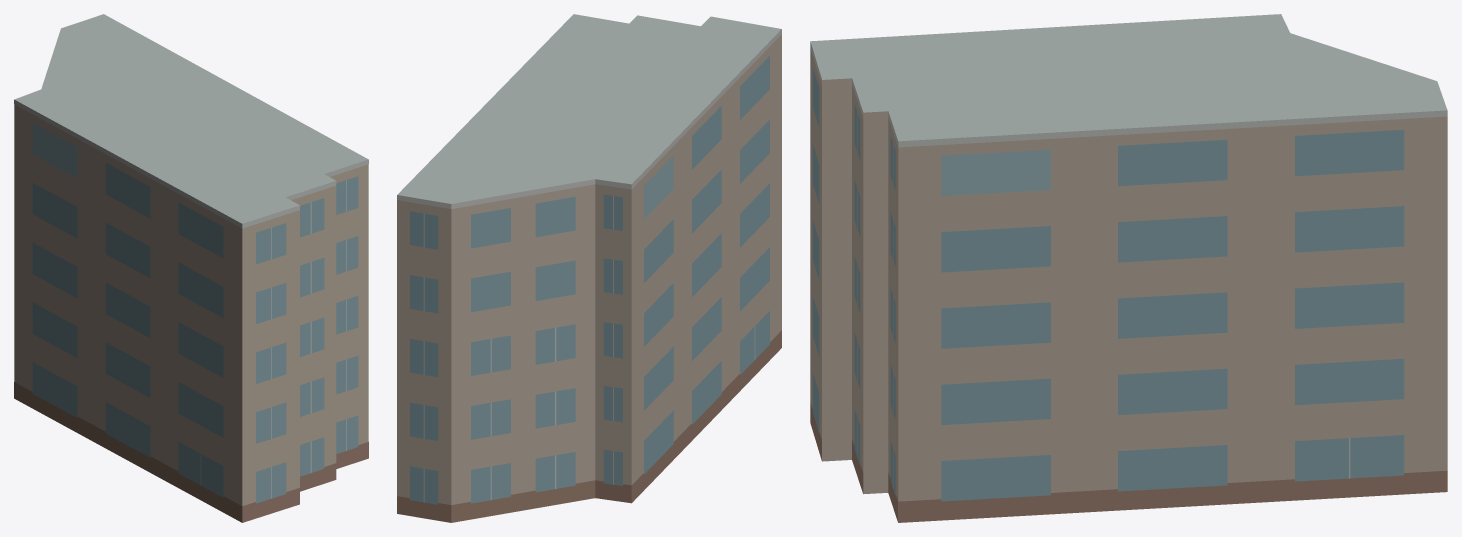
File: survey-upis-33000423.glb
3 renders of one model, left to right at view 1: azimuth 30°, elevation 25°; view 2: azimuth 150°, elevation 25°; view 3: azimuth 270°, elevation 25°, orthographic. The views are drawn at different scales.
Parts seen in each view (by area): view 1: survey-upis-33000423.tmp; view 2: survey-upis-33000423.tmp; view 3: survey-upis-33000423.tmp.
Part boxes in pixels (x1,y1,x2,y2): survey-upis-33000423.tmp: [14, 14, 368, 522]; survey-upis-33000423.tmp: [397, 14, 781, 522]; survey-upis-33000423.tmp: [810, 14, 1447, 522].
Size of the model in its own units: 10.92 by 15.25 by 23.09.
